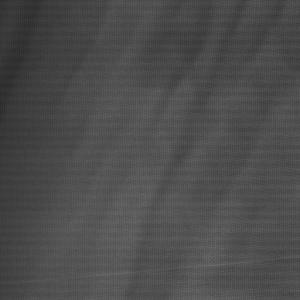Wrinkle: (52, 1, 300, 300)
